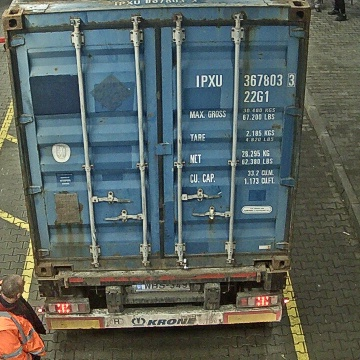serial_id: (195, 74, 295, 87)
